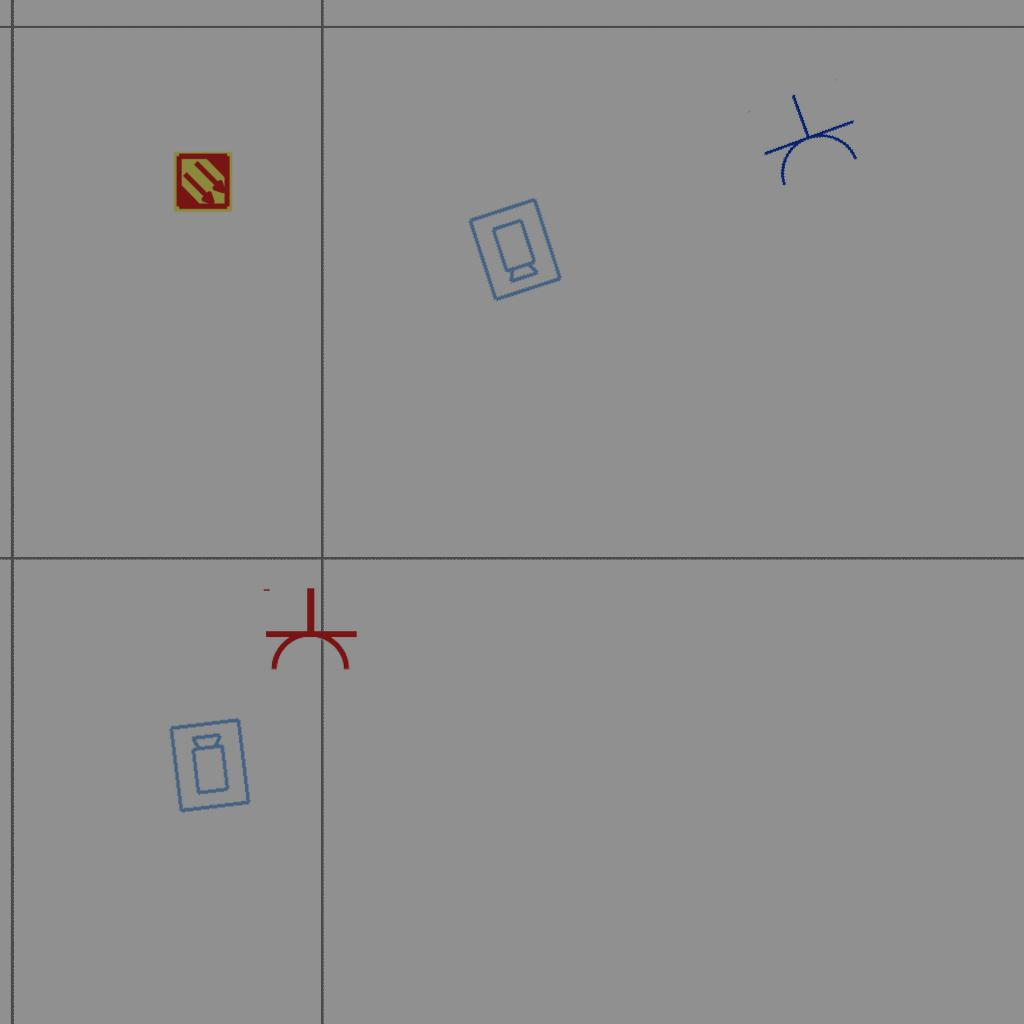ASR_Ansaugrauchmelder: (172, 151, 234, 213)
KFO_Kamera_mit_Festobjektiv: (463, 194, 566, 305), (166, 715, 255, 816)
Schukosteckdose_einfach: (745, 77, 869, 194), (259, 586, 359, 673)
